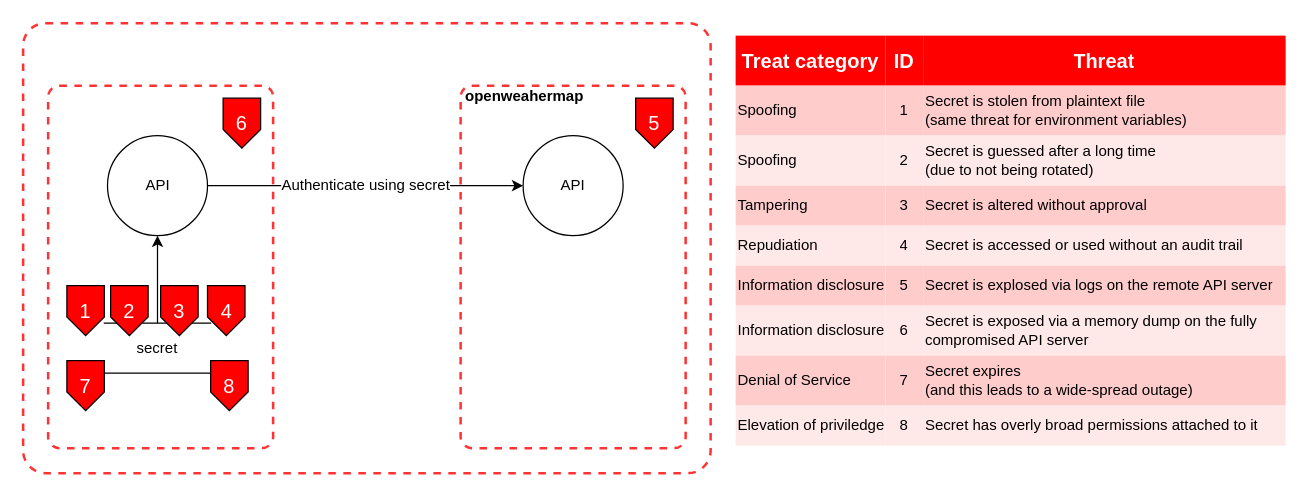
The diagram is 1306 pixels wide and 495 high, and some of its shapes have lost their labels. Each missing label, with the box of its shape:
Enterprise: (21, 21, 711, 474)
local server: (46, 84, 274, 449)
